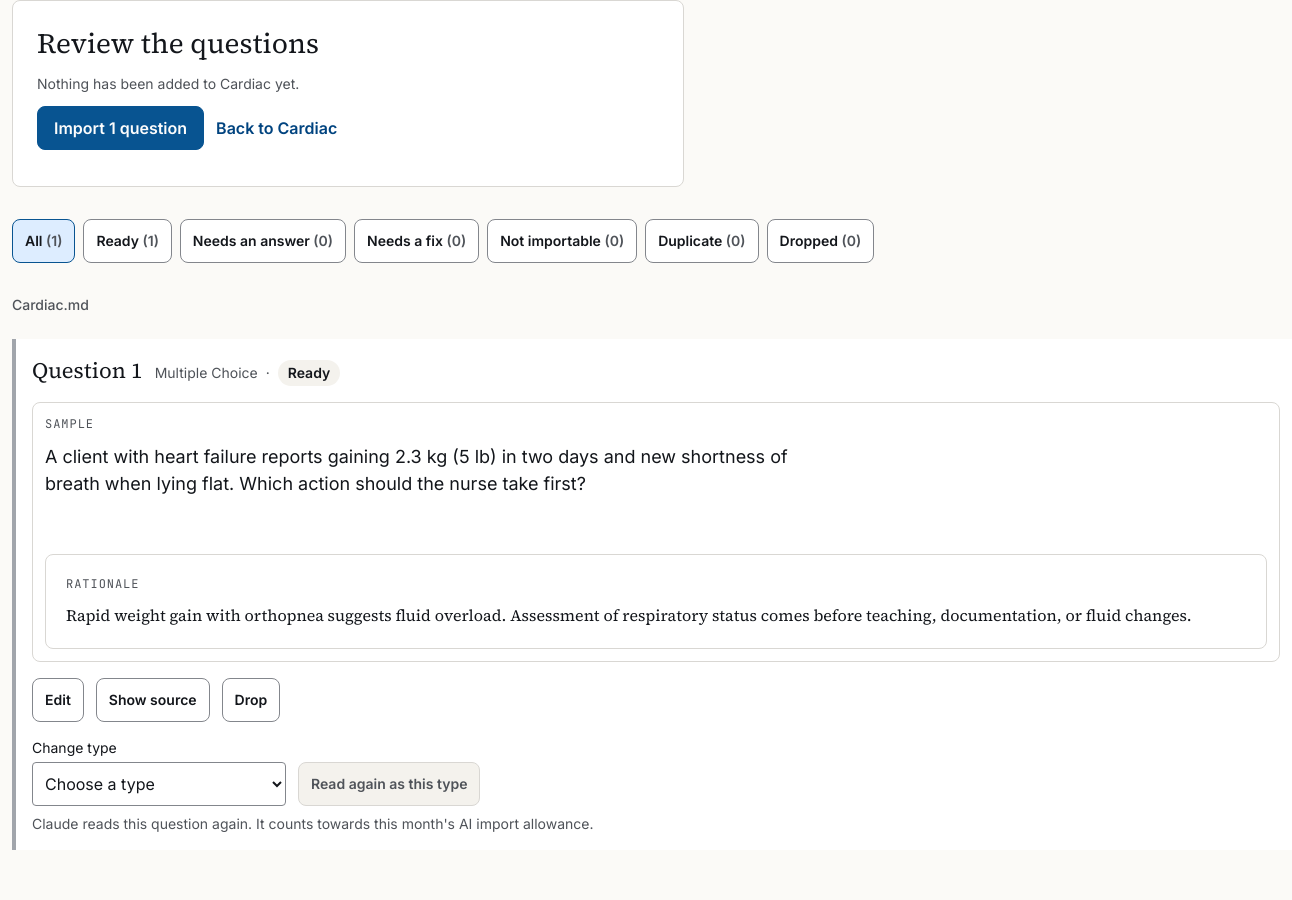
Scenario: AiImportReview (#346) › keeps the review and says why when the import is refused
Click the button with test id "import-button": click(121, 128) [37, 106, 204, 150]
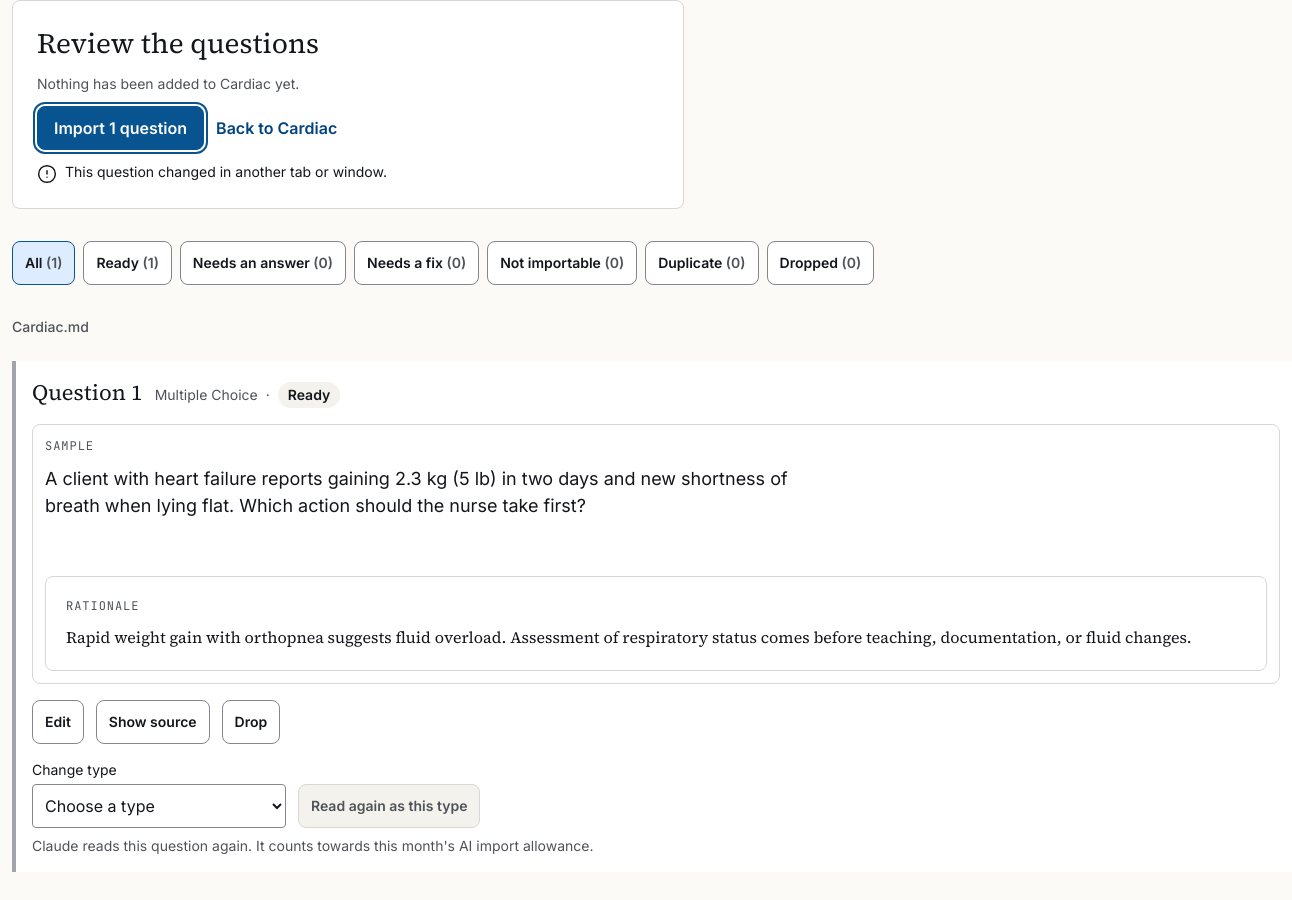
Result: the text "This question changed in another tab or window." is shown at [65, 162, 387, 182]
